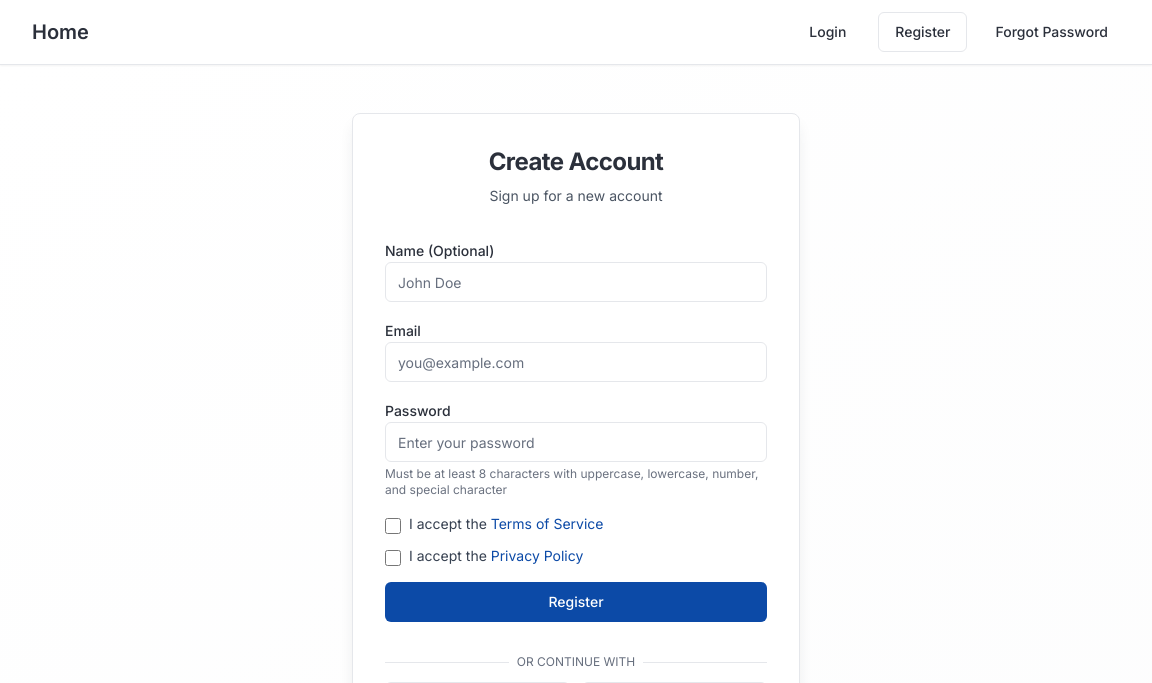
Test: Register Page › should validate email format
The image size is (1152, 683).
Note: Type invalid email
Type "invalid-email" into the field labelled "Email" at (576, 362), box [385,342,767,382]
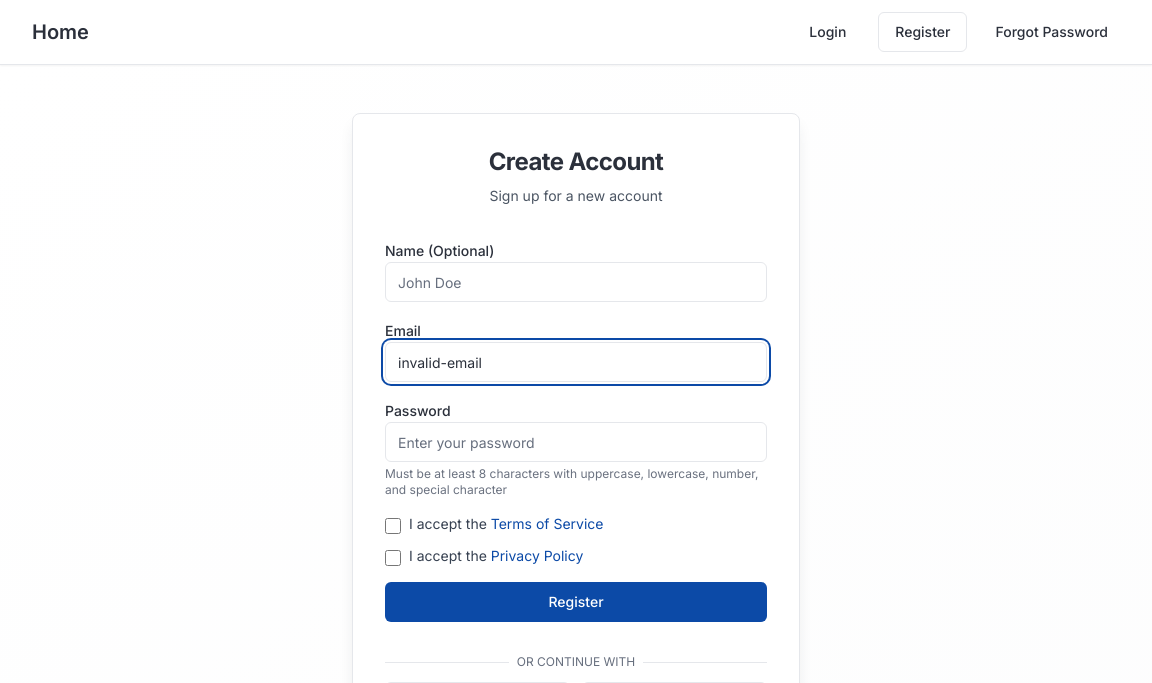
Submit the form labelled "Email", box [385,238,767,622]
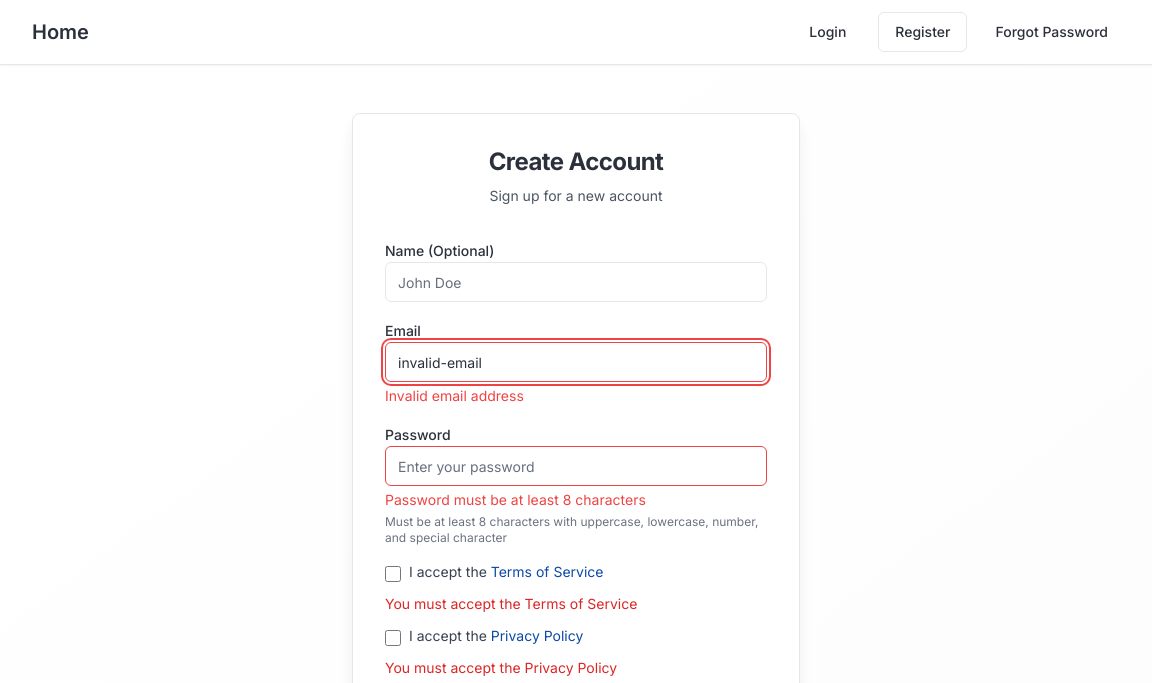
Expected: the text with test id "email-error" reads "Invalid email address", [385,387,524,404]
